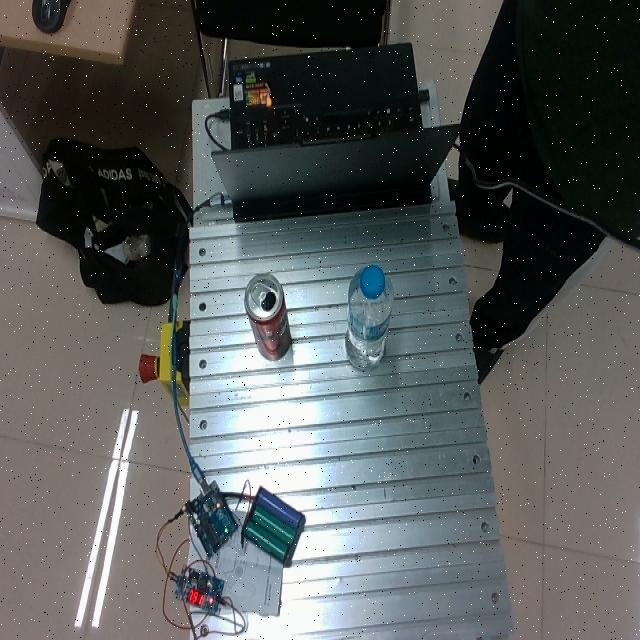coca: (243, 272, 290, 360)
lavie: (344, 262, 393, 370)
